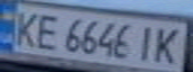4: (97, 19, 118, 58)
6: (112, 20, 139, 61), (57, 15, 84, 54), (78, 17, 100, 56)
E: (30, 11, 63, 51)
I: (133, 22, 160, 63)
K: (148, 24, 187, 65), (6, 8, 45, 47)
